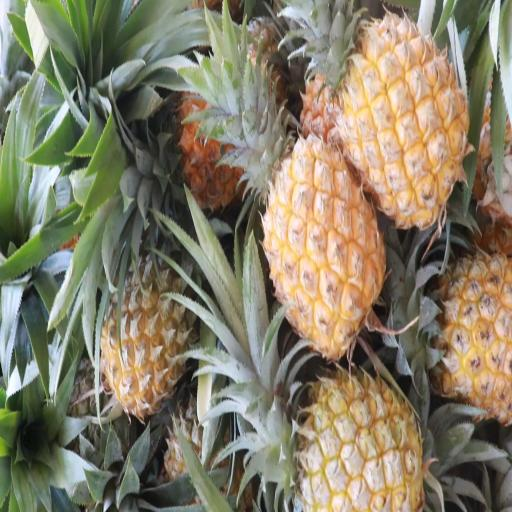Pineapple - v8 v1: (317, 16, 469, 230), (252, 138, 386, 359), (264, 366, 422, 512), (386, 252, 512, 414), (98, 231, 188, 421)
